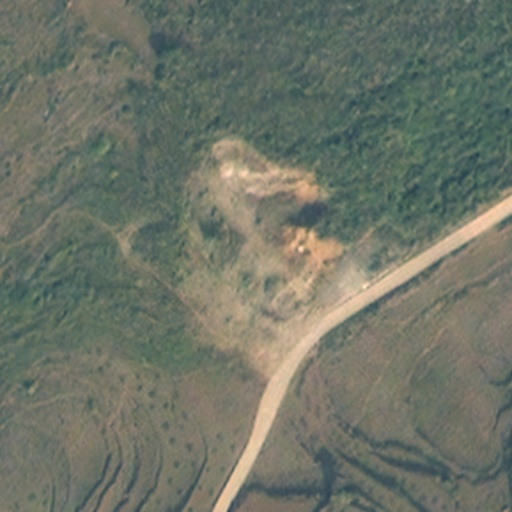landslide: (206, 140, 349, 269)
